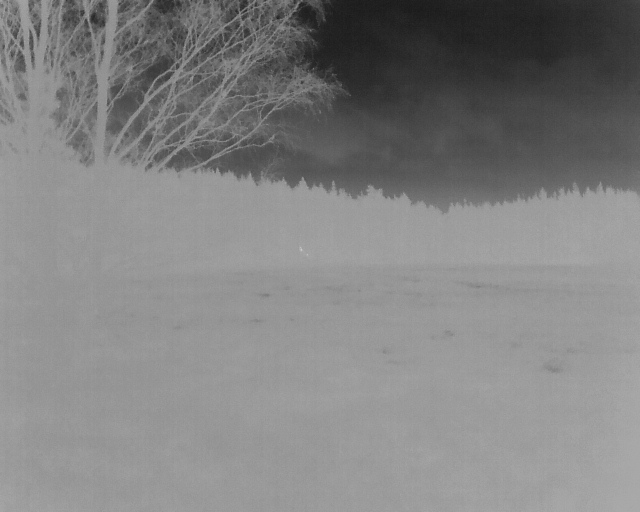Deer: (299, 246, 302, 251), (306, 253, 309, 257)
